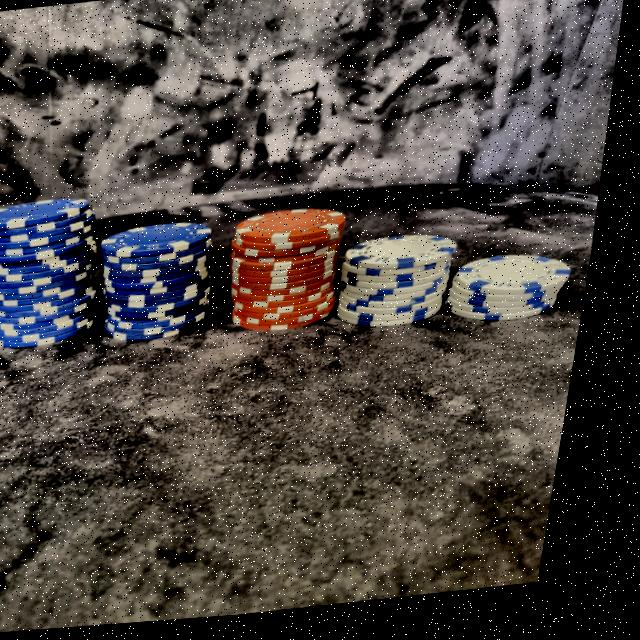Chip: (223, 190, 366, 349), (0, 182, 121, 367), (94, 207, 231, 359), (330, 222, 484, 349), (442, 236, 585, 349)
